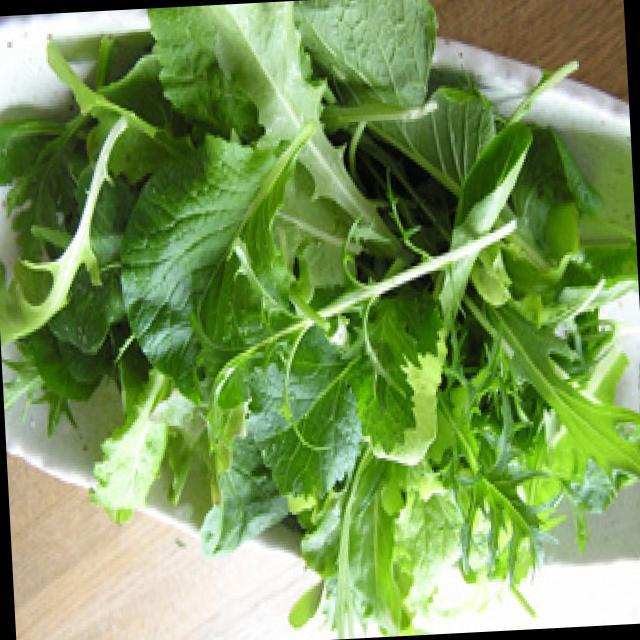Green Salad: (22, 26, 624, 602)
